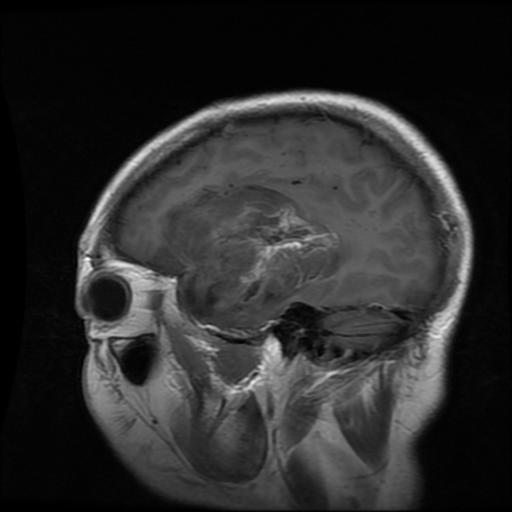Gliomia_tumour: (154, 180, 340, 313)
